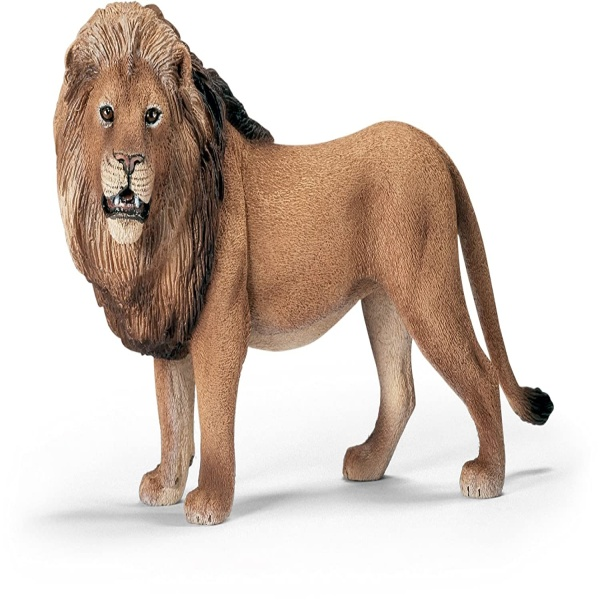Lion: (51, 2, 555, 527)
